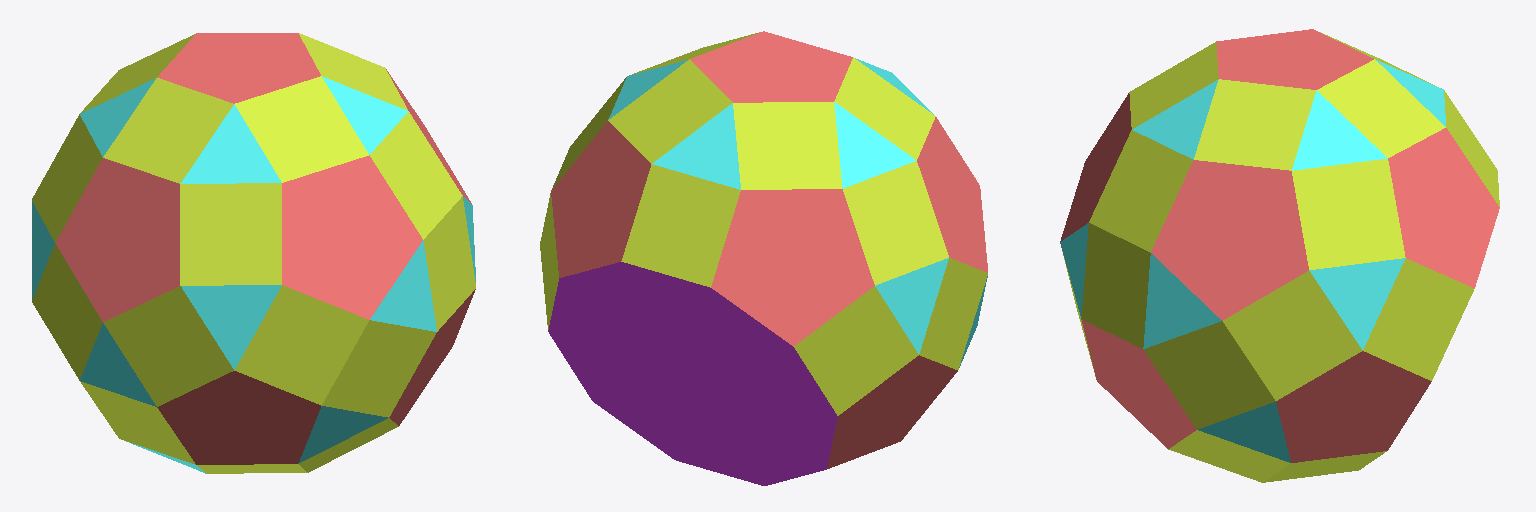
The model's file is j78_metagyrate_diminished_rhombicosidodecahedron.obj.
3 views of the same model, side by side, from view 1: azimuth 30°, elevation 25°; view 2: azimuth 150°, elevation 25°; view 3: azimuth 270°, elevation 25° (orthographic).
Bounding box in the file's own units: 1.94 × 1.89 × 1.93.